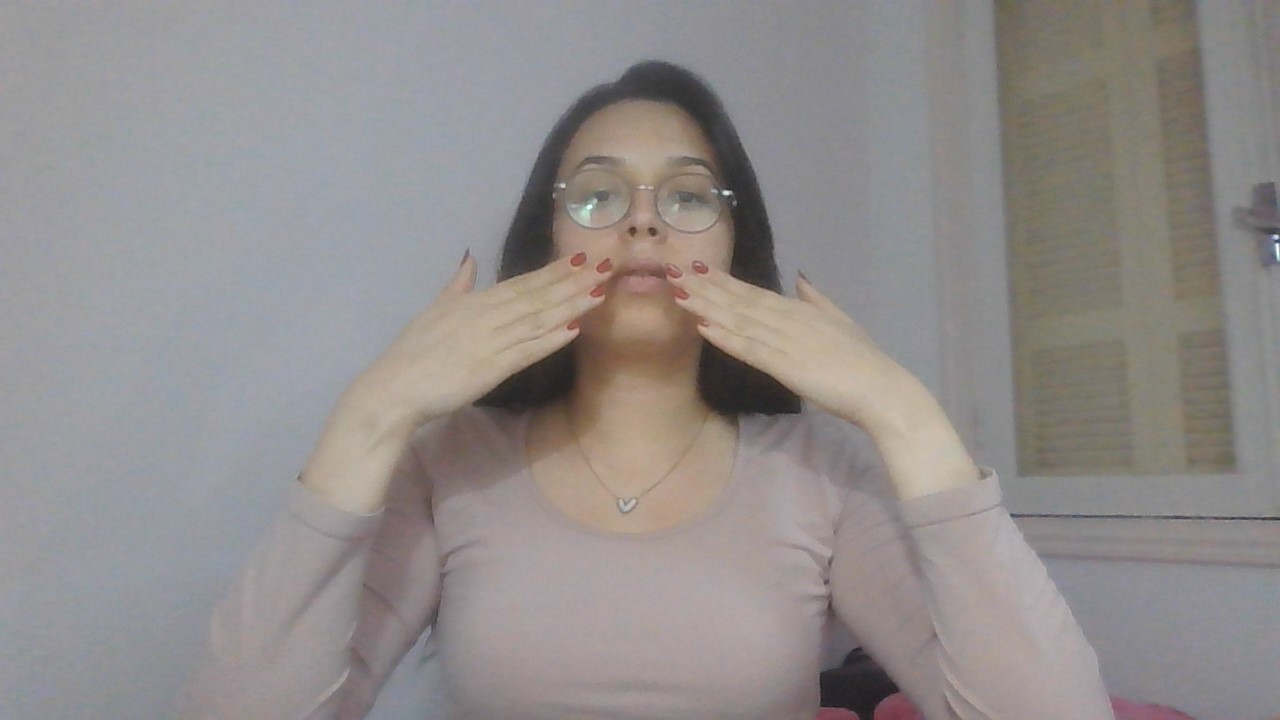thanks: (347, 238, 950, 438)
